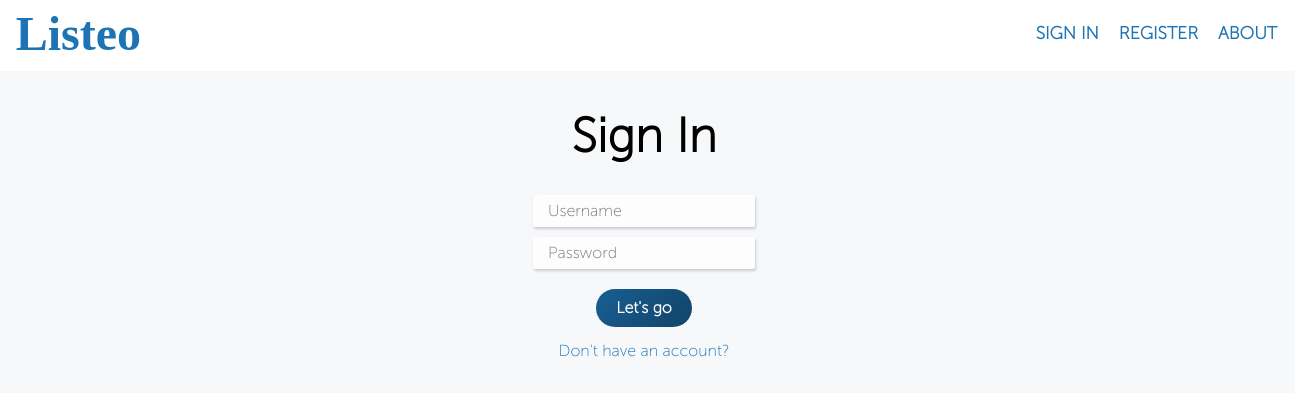
Test: Login › Submit button › becomes disabled if the password is showing an error
The image size is (1295, 393).
Type "v" into the field with test id "login--username".
click(644, 211); type("v")  # box x1=533 y1=195 x2=755 y2=227
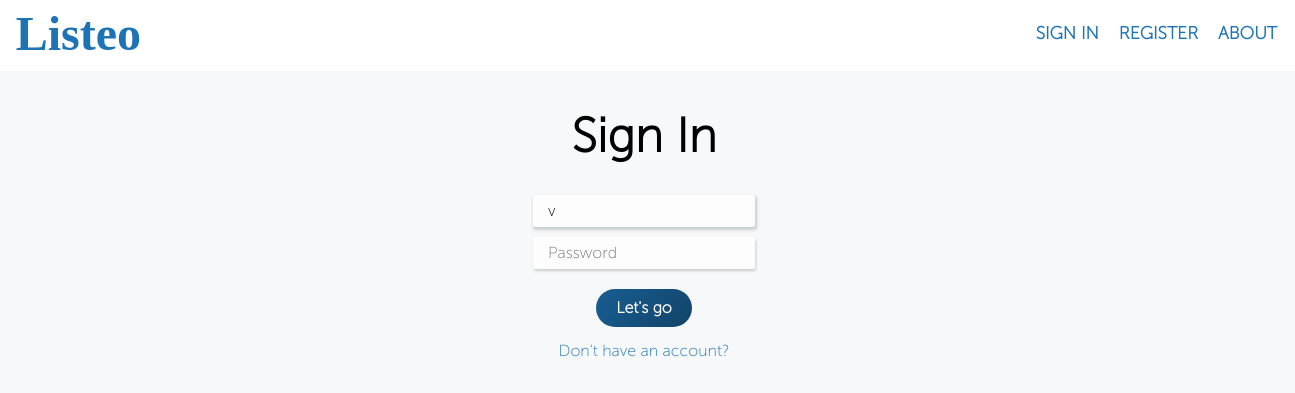
Press Enter in the password field with test id "login--password", box x1=533 y1=237 x2=755 y2=269
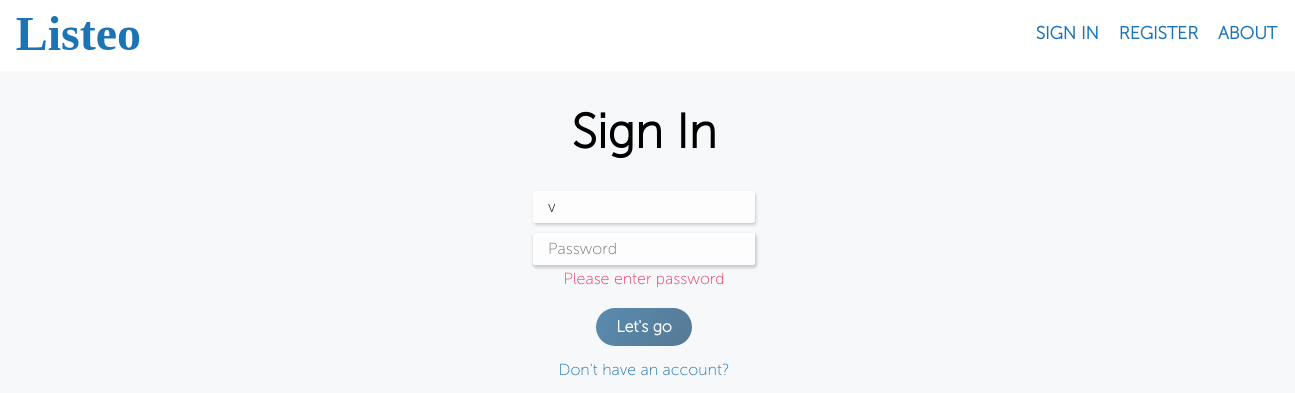
Expected: the button with test id "login--submit" is disabled, x1=596 y1=308 x2=692 y2=346
